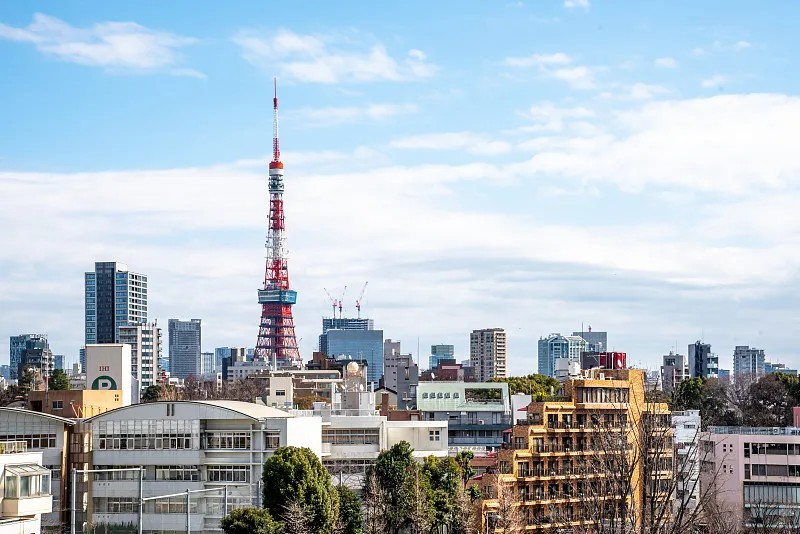Tokyo: (248, 75, 306, 369)
